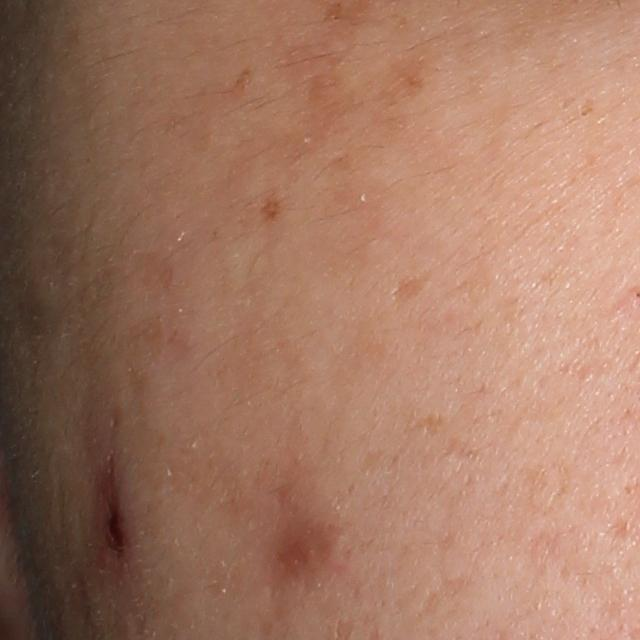atrophic_scar: (259, 525, 332, 592), (379, 266, 436, 308)
melasma: (224, 67, 255, 100)
